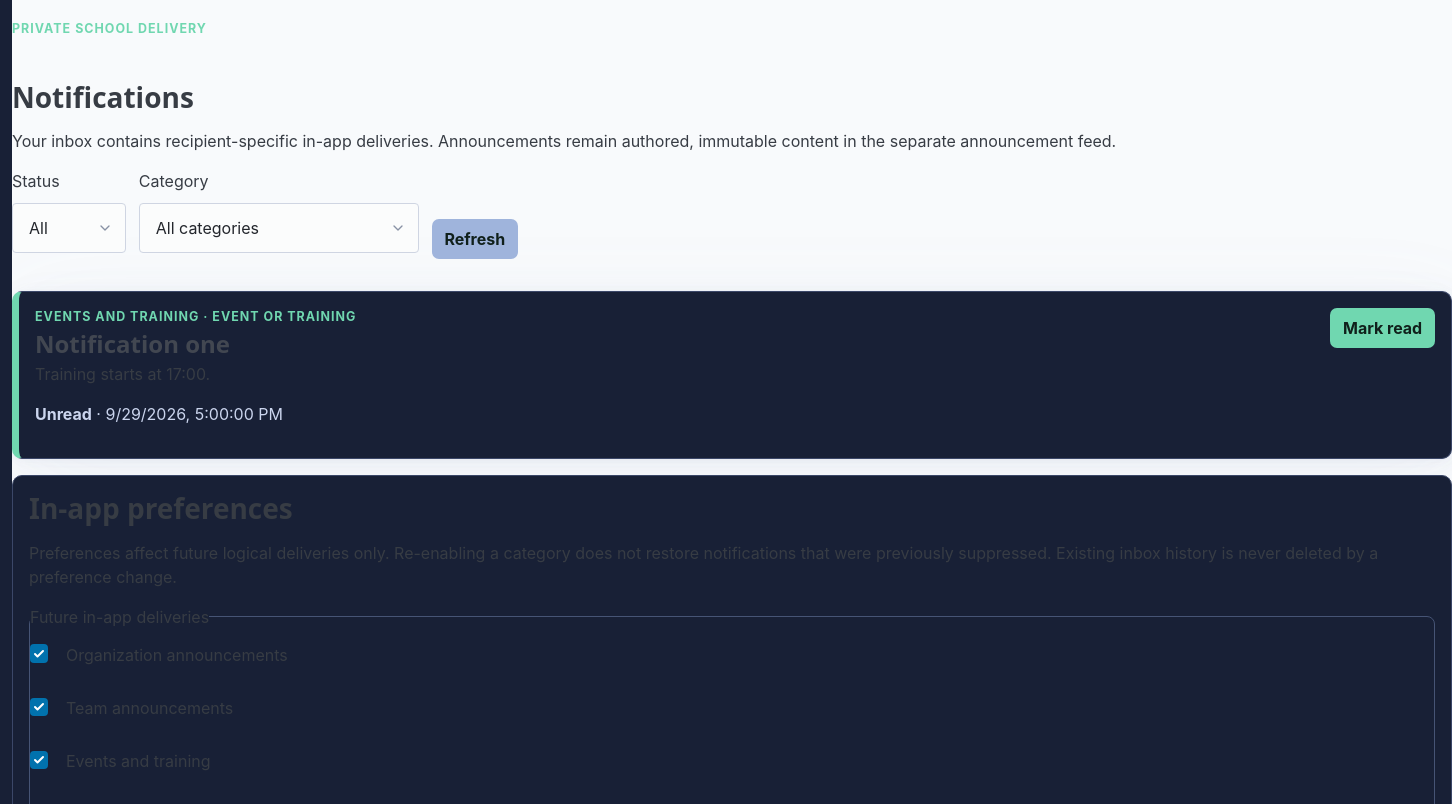
Test case: shared organization notification inbox › marks a notification read only after the authoritative response and refreshes the badge
Click the button with test id "mark-read-one": (1383, 328) [1330, 308, 1435, 348]
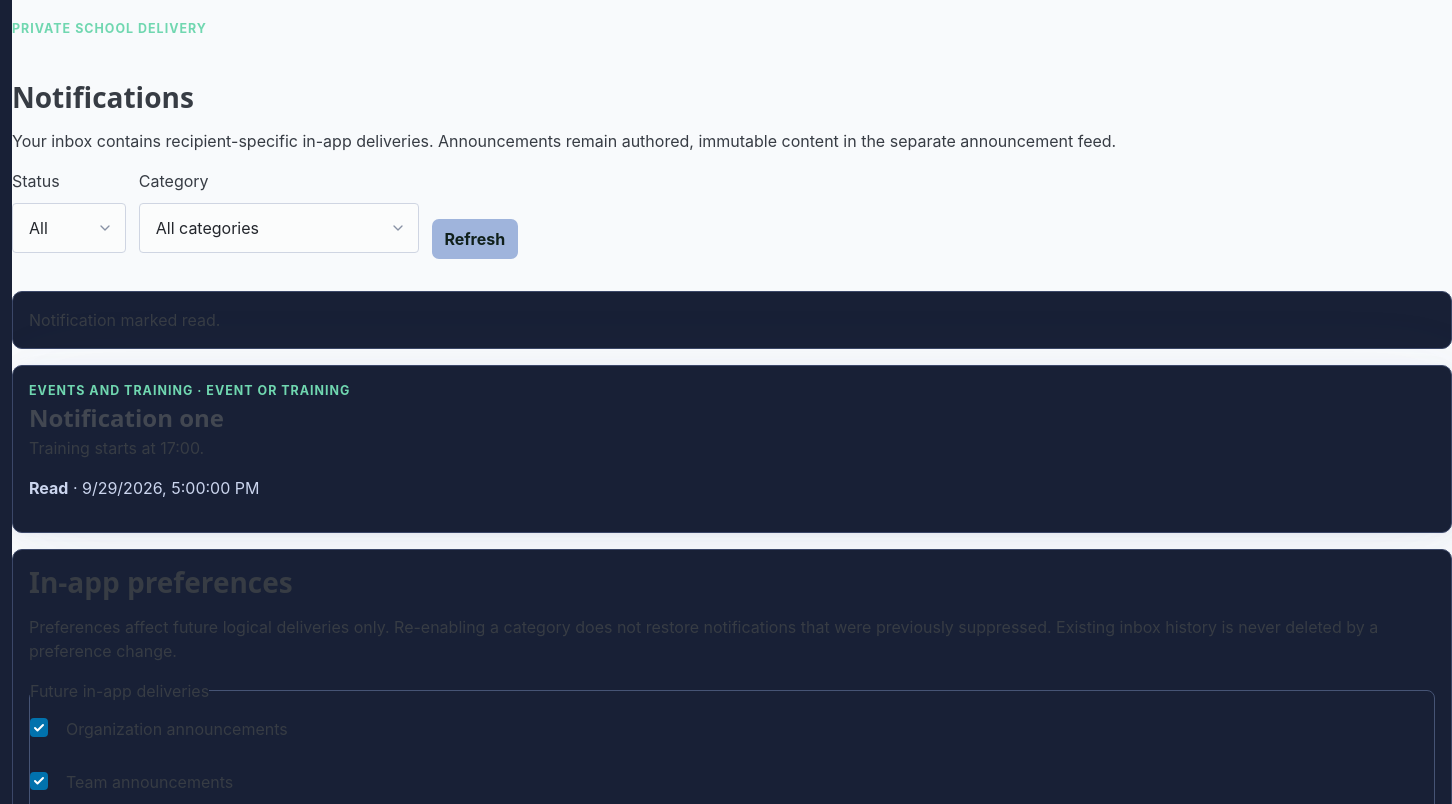
Now the text with test id "notification-read-state" reads "Read", box [29, 478, 68, 498]
